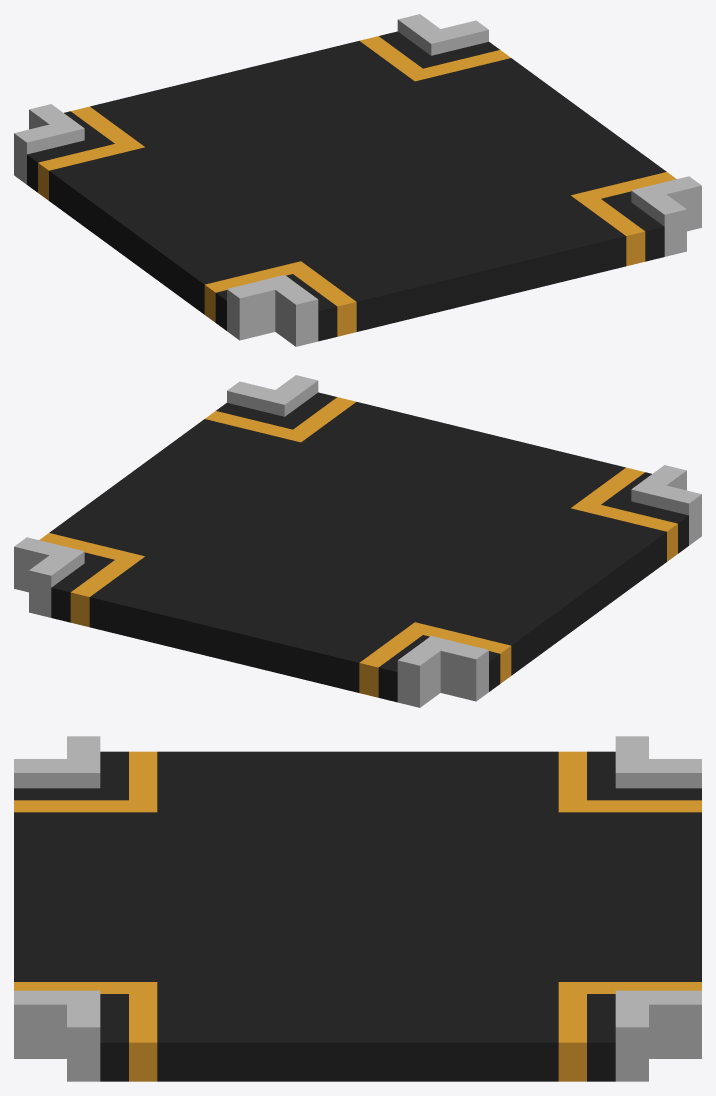
The model's file is Road_4In.fbx.
3 renders of one model, top to bottom at view 1: azimuth 30°, elevation 25°; view 2: azimuth 150°, elevation 25°; view 3: azimuth 270°, elevation 25°, orthographic. The views are drawn at different scales.
Parts seen in each view (by area): view 1: Road_4in; view 2: Road_4in; view 3: Road_4in.
Boxes of the visible parts, x1,y1,x2,y2 form: Road_4in: (14,14,701,346); Road_4in: (14,375,701,707); Road_4in: (14,736,701,1081).
Size of the model in its own units: 100 by 8.72 by 100.
